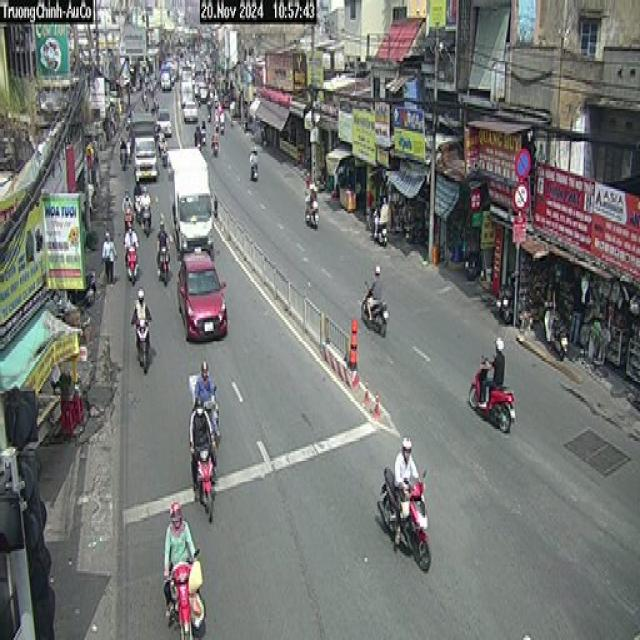car: (175, 250, 237, 344)
motorcycle: (378, 464, 434, 576), (467, 357, 520, 436), (168, 563, 200, 640), (195, 450, 221, 526), (544, 294, 569, 364), (360, 289, 391, 340), (135, 315, 156, 378), (124, 238, 142, 289)
person: (161, 501, 196, 564), (392, 436, 418, 490), (190, 400, 214, 446), (489, 335, 507, 389), (196, 362, 216, 404), (102, 233, 118, 285), (132, 290, 154, 324), (371, 267, 384, 307)
truck: (162, 147, 222, 255)
